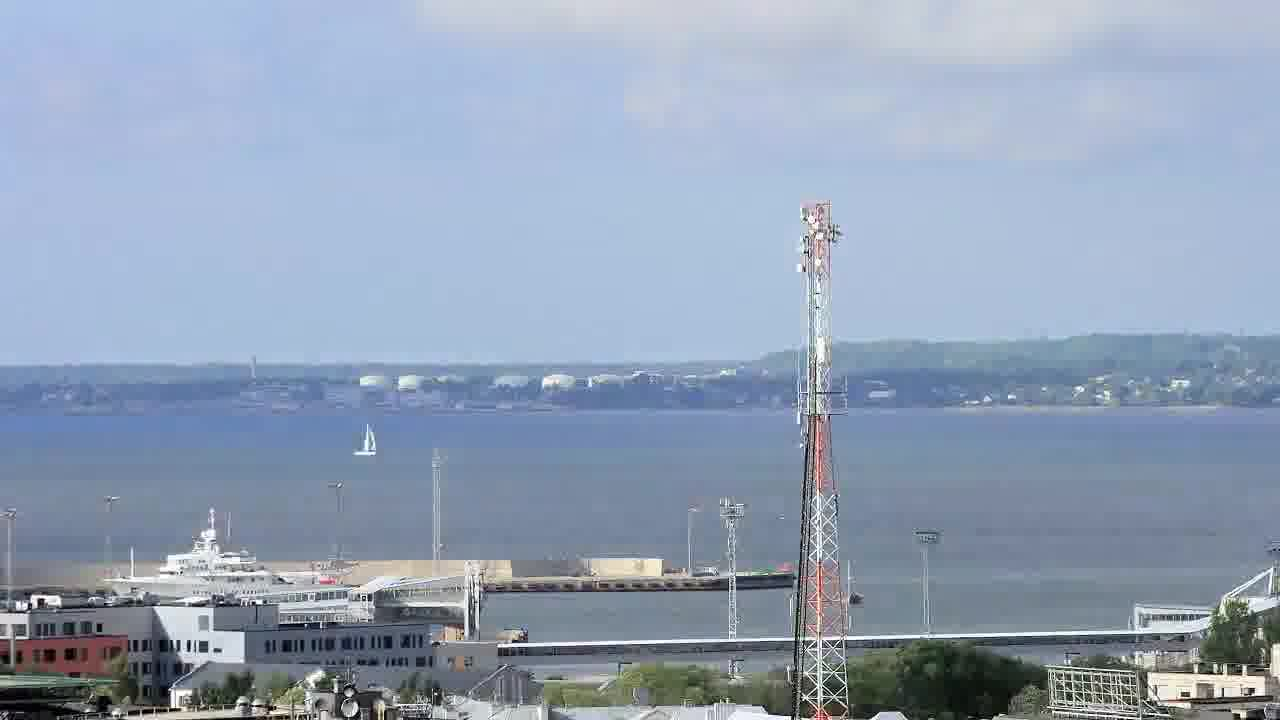type-0: (833, 577, 874, 618)
type-2: (341, 411, 394, 464)
type-3: (98, 503, 361, 603)
